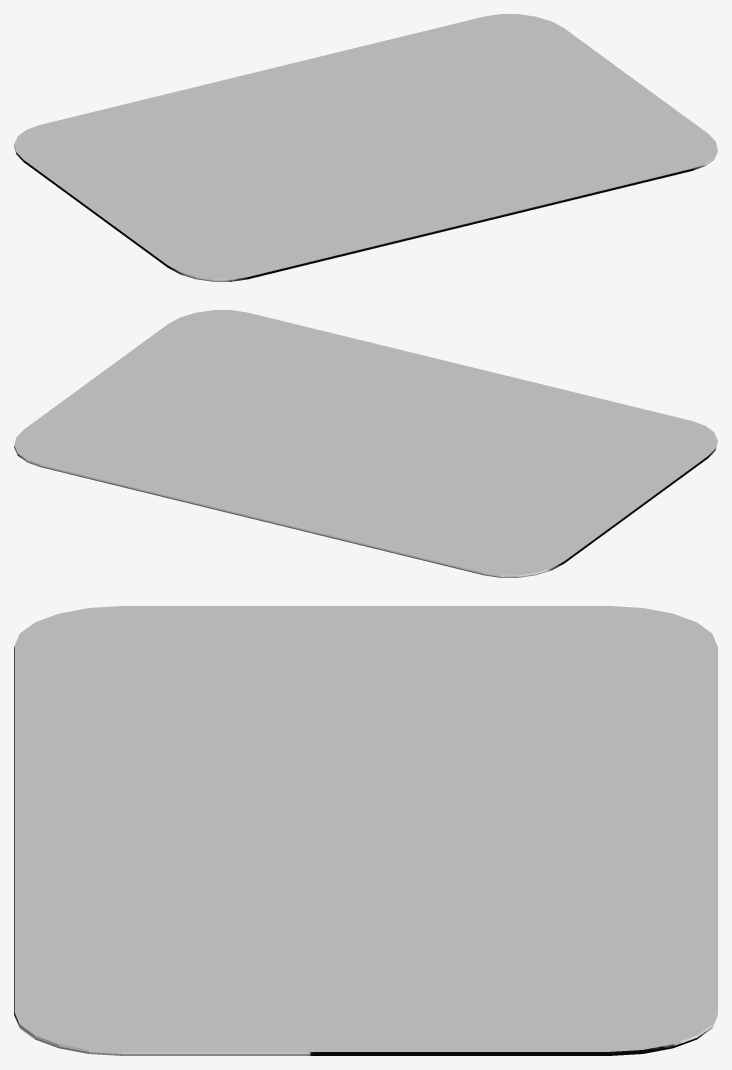
File: card(8mm).fbx
3 views of the same model, one above another, from view 1: azimuth 30°, elevation 25°; view 2: azimuth 150°, elevation 25°; view 3: azimuth 270°, elevation 25° (orthographic). The views are drawn at different scales.
Parts seen in each view (by area): view 1: Cube; view 2: Cube; view 3: Cube.
Part boxes in pixels (x1,y1,x2,y2): Cube: (14,14,717,281); Cube: (14,310,717,577); Cube: (14,606,717,1055).
Size of the model in its own units: 187 by 0.8 by 125.
